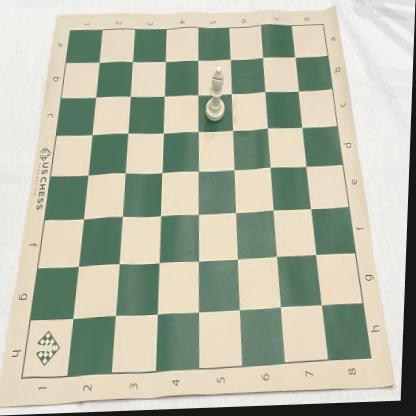white-bishop: (206, 68, 228, 124)
